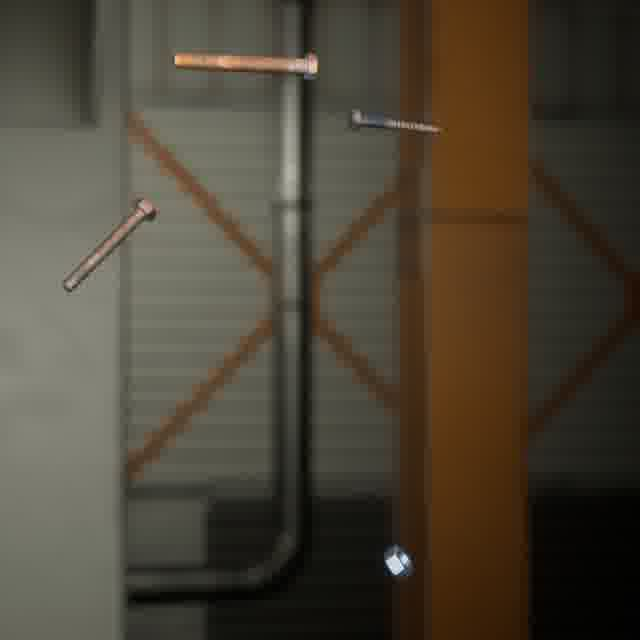bolt: (57, 193, 160, 296), (167, 48, 322, 85), (344, 104, 447, 138)
nut: (380, 540, 417, 583)
